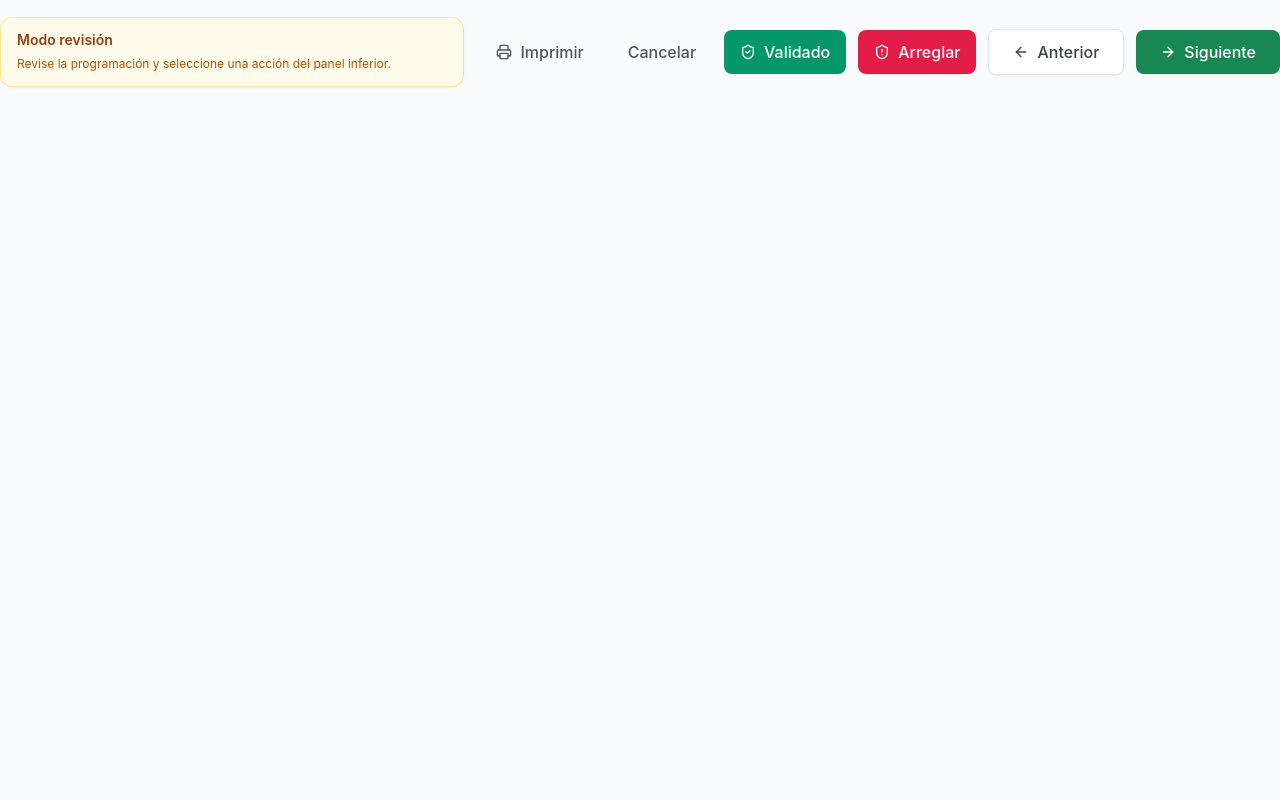
ProgrammingActionBar › no envía la devolución al cancelar el modal de Arreglar
Click the button "Arreglar" at (917, 52), box [858,30,976,74]
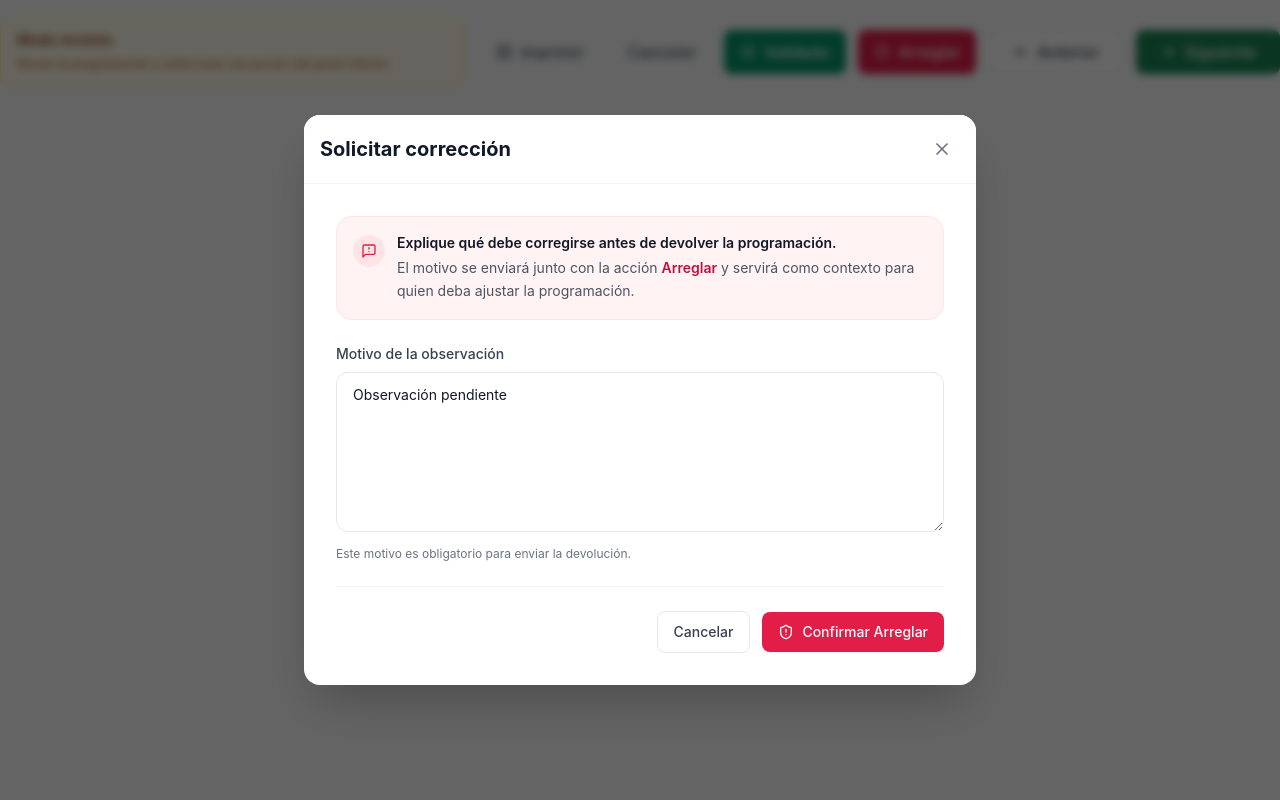
Click the button "Cancelar" at (703, 632), box [656,611,750,653]
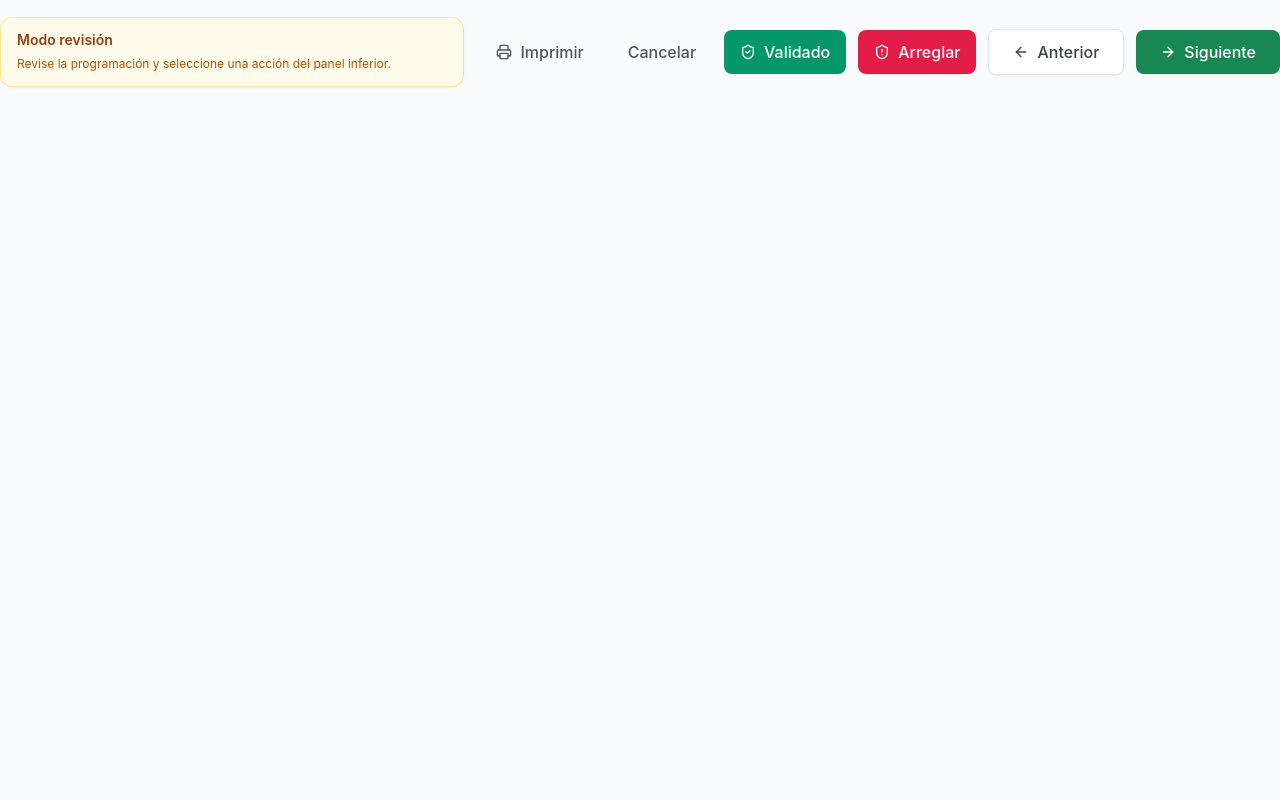
Expected: the text "Solicitar corrección" is gone
